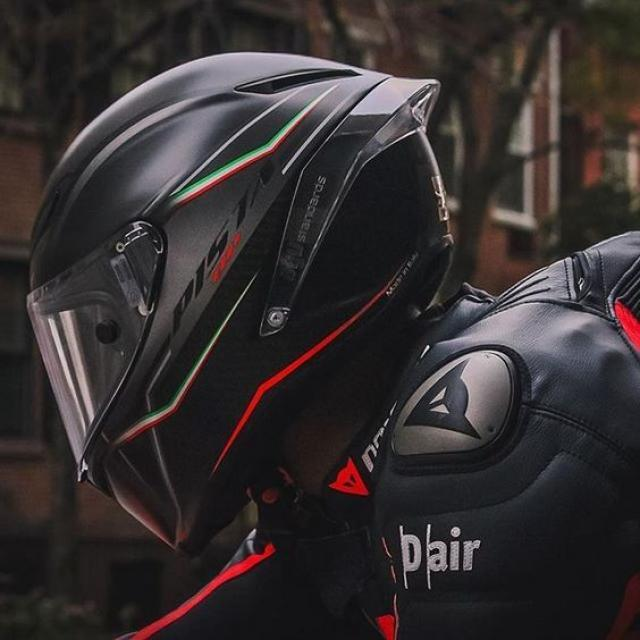Helm: (16, 49, 466, 561)
